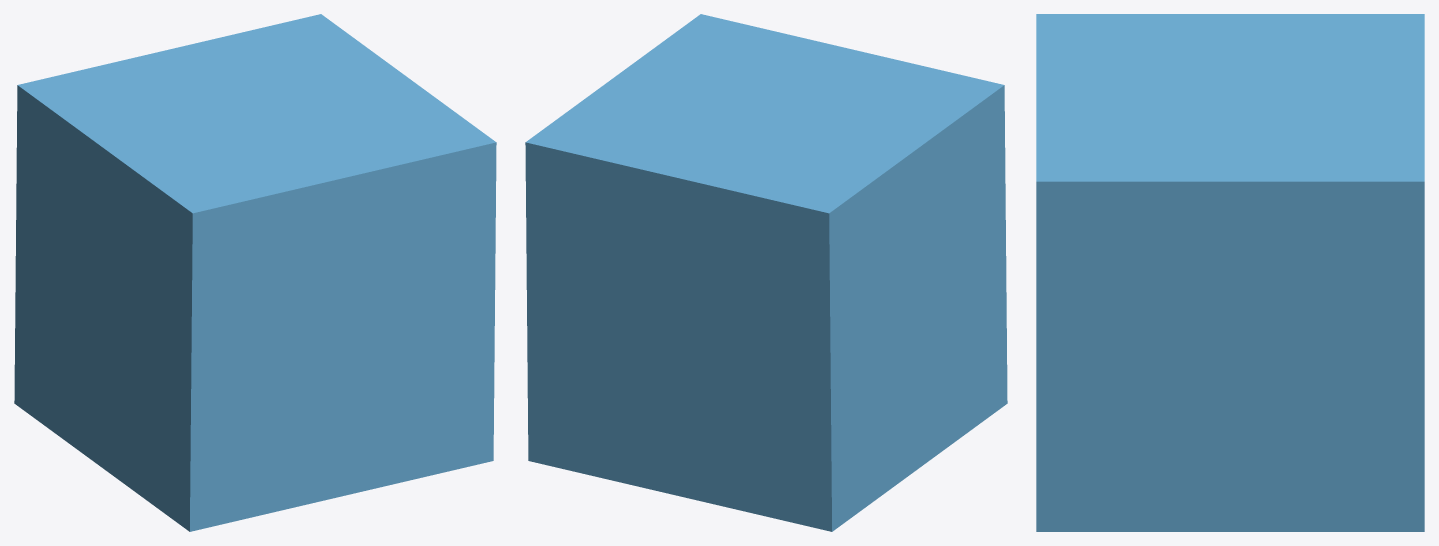
The model's file is bouncing_cube.fbx.
3 renders of one model, left to right at view 1: azimuth 30°, elevation 25°; view 2: azimuth 150°, elevation 25°; view 3: azimuth 270°, elevation 25°, orthographic. The views are drawn at different scales.
Parts seen in each view (by area): view 1: Cube; view 2: Cube; view 3: Cube.
Boxes of the visible parts, box(x1,y1,x2,y2) form: Cube: box(14, 14, 496, 531); Cube: box(525, 14, 1007, 531); Cube: box(1036, 14, 1424, 531).
Bounding box in the file's own units: 202 × 202 × 200.
